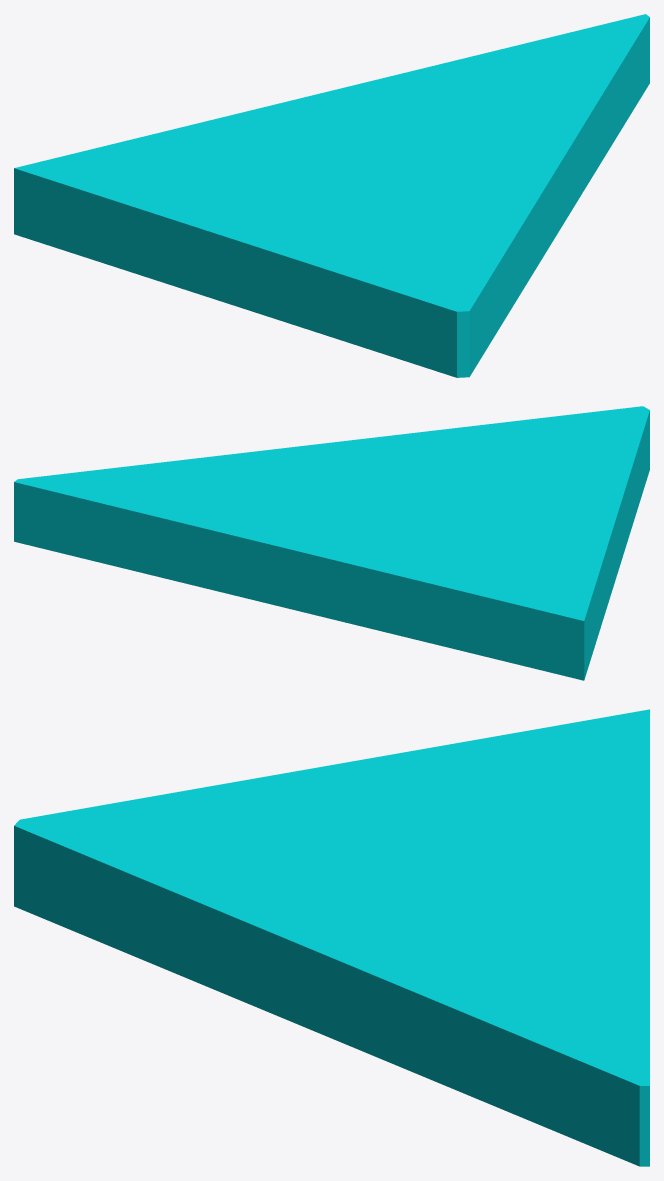
The model's file is Item5.fbx.
3 views of the same model, one above another, from view 1: azimuth 30°, elevation 25°; view 2: azimuth 150°, elevation 25°; view 3: azimuth 270°, elevation 25° (orthographic). The views are drawn at different scales.
Visible parts, largest first — view 1: Cylinder.005; view 2: Cylinder.005; view 3: Cylinder.005.
Boxes of the visible parts, x1=… form: Cylinder.005: x1=14, y1=14, x2=649, y2=377; Cylinder.005: x1=14, y1=406, x2=649, y2=680; Cylinder.005: x1=14, y1=709, x2=649, y2=1166.
Bounding box in the file's own units: 200 × 20 × 143.
